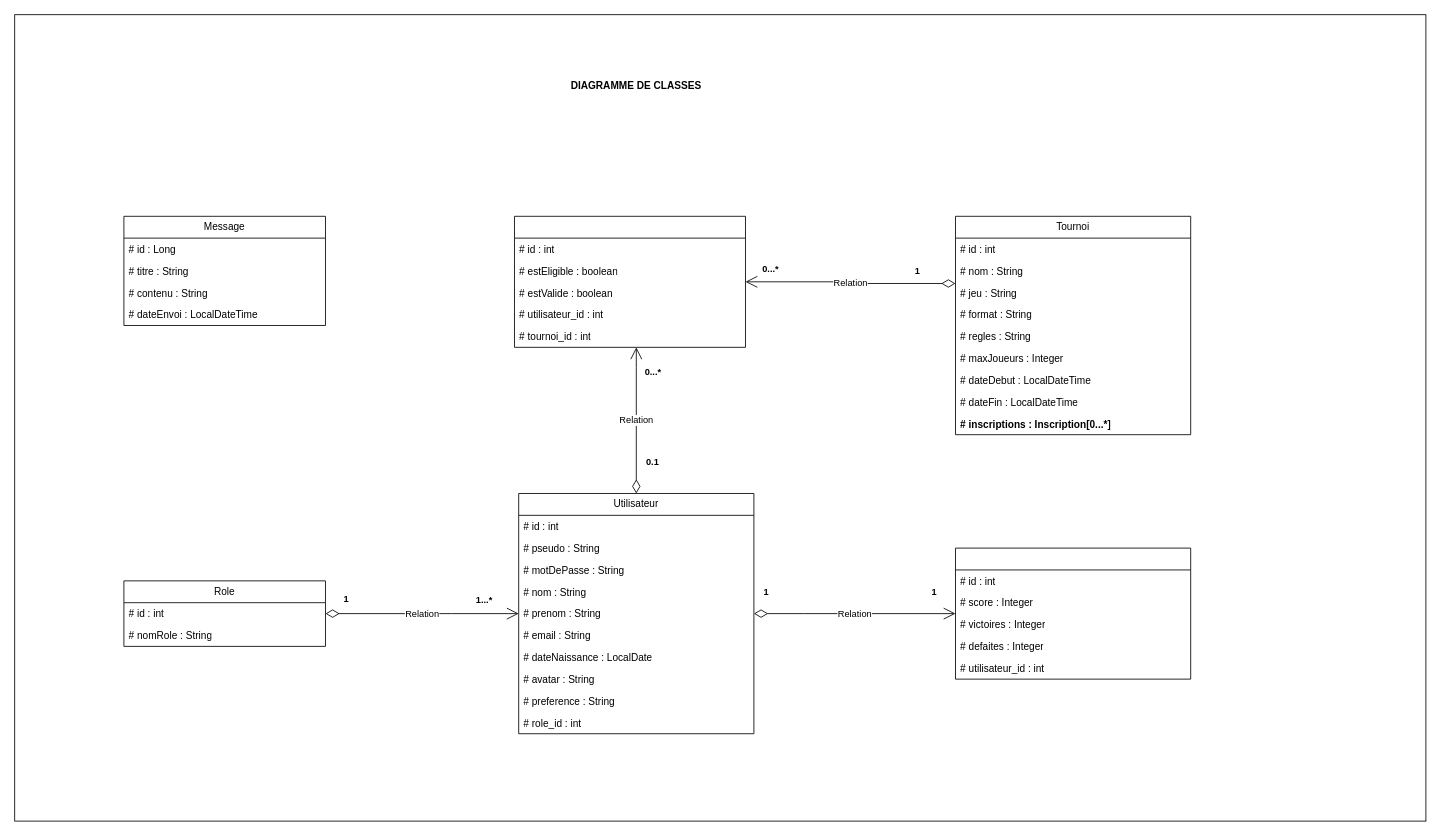
The diagram is 1441 pixels wide and 836 high, and some of its shapes have lost their labels. The box of each missing label's shape, as (x1, y1, x2, y2) in pixels:
Inscription: (514, 215, 746, 347)
Statistiques: (955, 547, 1191, 679)
